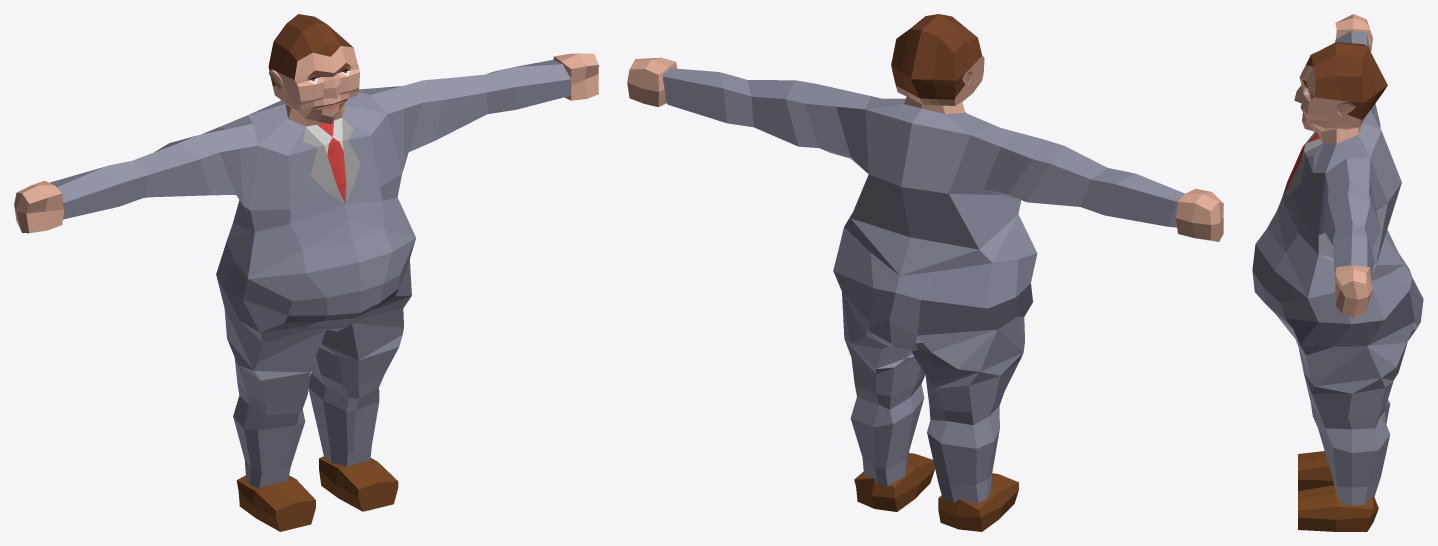
Rendered from Papa3.fbx.
3 views of the same model, side by side, from view 1: azimuth 30°, elevation 25°; view 2: azimuth 150°, elevation 25°; view 3: azimuth 270°, elevation 25° (orthographic). The views are drawn at different scales.
Visible parts, largest first — view 1: corps, tete, Cube, main; view 2: corps, tete, Cube, main; view 3: corps, tete, Cube, main.
Boxes of the visible parts, x1,y1,x2,y2 form: corps: (50,60,571,487); tete: (268,14,359,124); Cube: (236,456,398,531); main: (14,53,598,233); corps: (662,68,1184,502); tete: (891,14,984,105); Cube: (854,453,1018,531); main: (627,57,1223,241); corps: (1252,31,1423,505); tete: (1294,42,1387,132); Cube: (1298,451,1378,531); main: (1335,14,1372,318).
Size of the model in its own units: 1648 by 1308 by 442.
